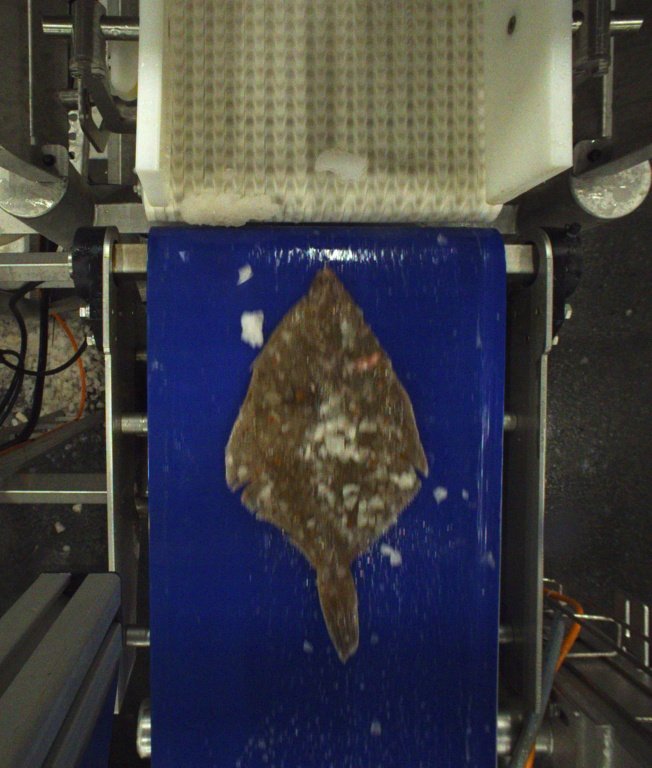PLE: (221, 265, 432, 663)
